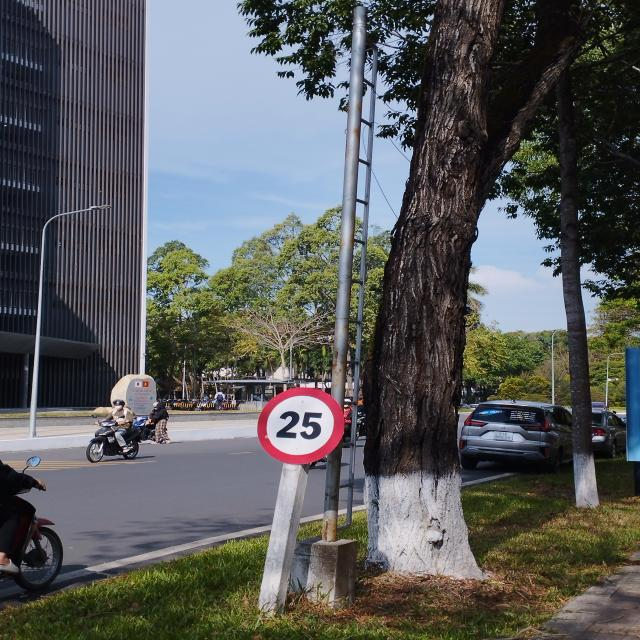Tre_Em: (258, 387, 344, 465)
